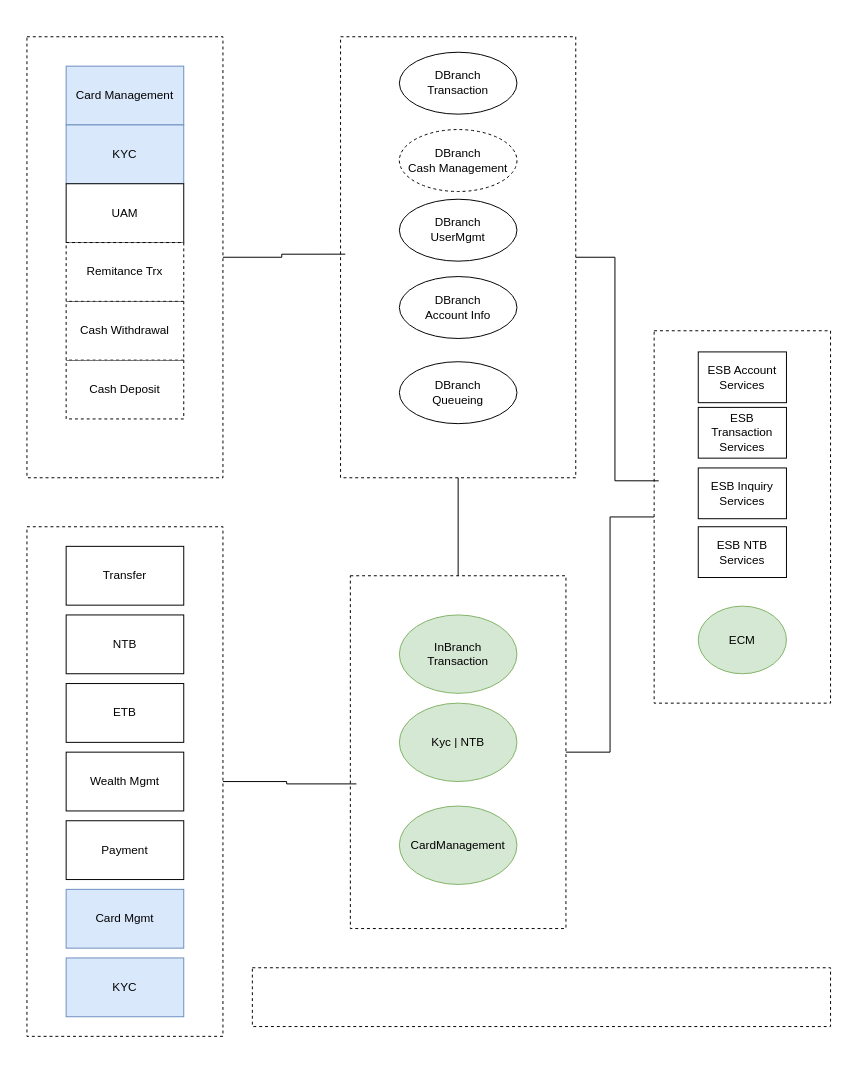
This 848x1088 diagram has some shape labels left out. The box of each missing label's shape, as (x1, y1, x2, y2) in pixels:
Bank Infrastructure Services: (653, 330, 831, 703)
BANKWIDE POINT OF VIEW: (251, 967, 831, 1027)
DigitalBranch App Services: (340, 36, 576, 478)
m2u Omnichannel: (349, 575, 566, 929)
Mobile & Internet Banking Persentation Layer: (26, 526, 223, 1036)
New Teller System Persentation Layer: (26, 36, 223, 478)
